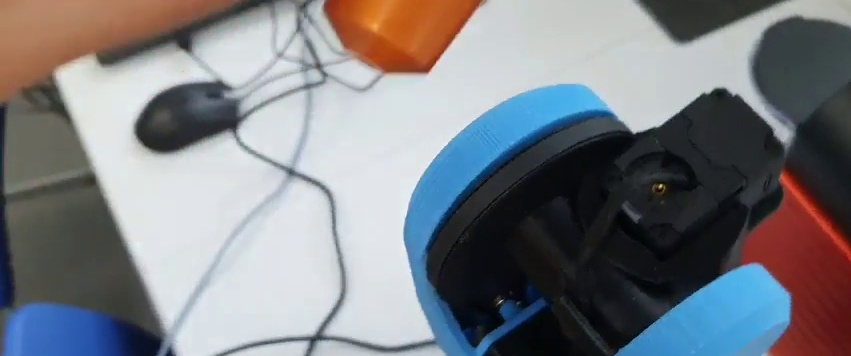capsule_5: (323, 1, 495, 80)
